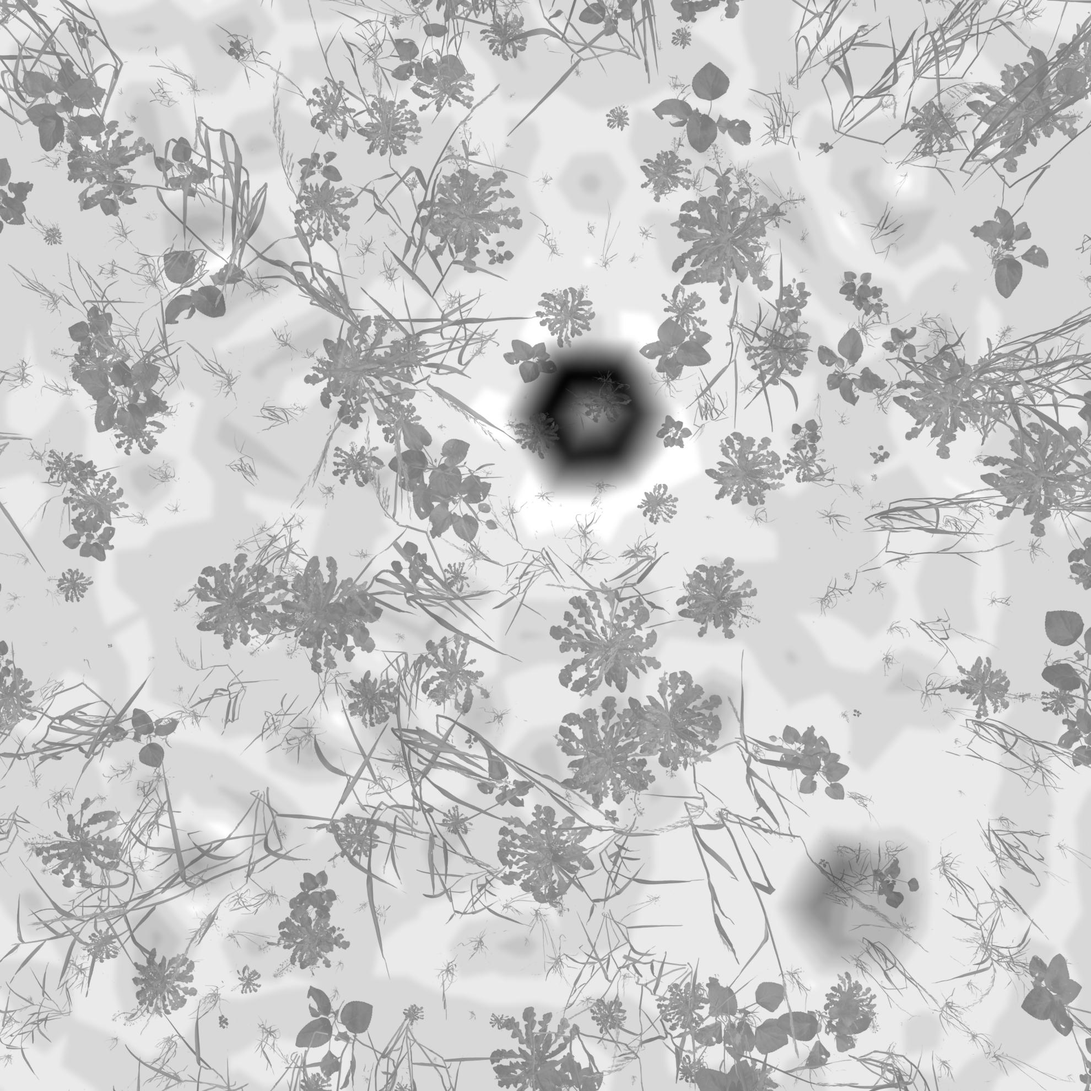landmine: (511, 333, 658, 491), (791, 836, 920, 971)
